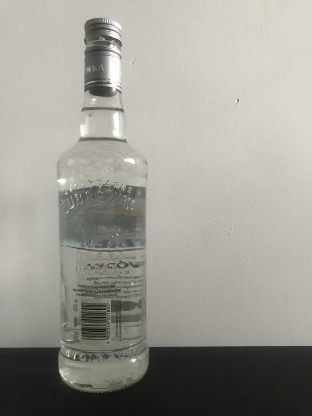nakretka: (83, 15, 123, 97)
